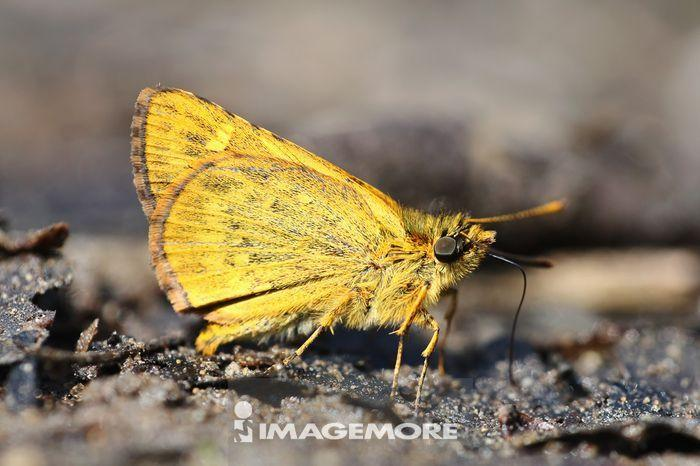Hesperiidae: (130, 82, 574, 371)
